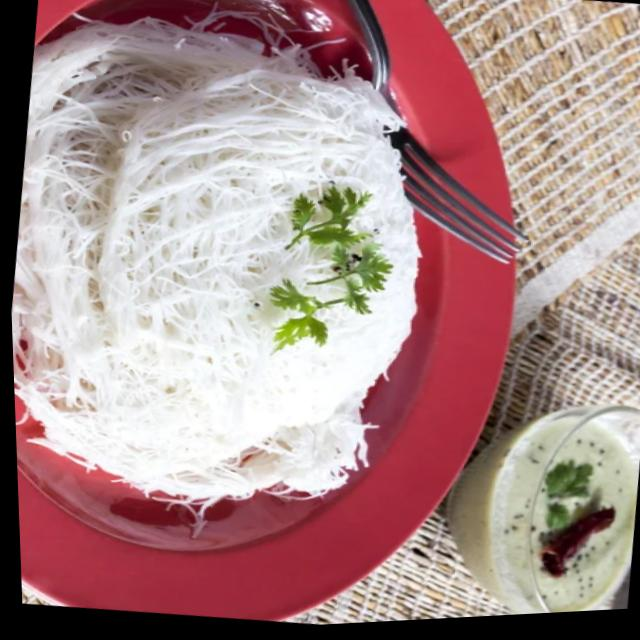IDIYAPPAM: (13, 0, 402, 534)
WHITE CHUTNEY: (505, 406, 634, 613)
